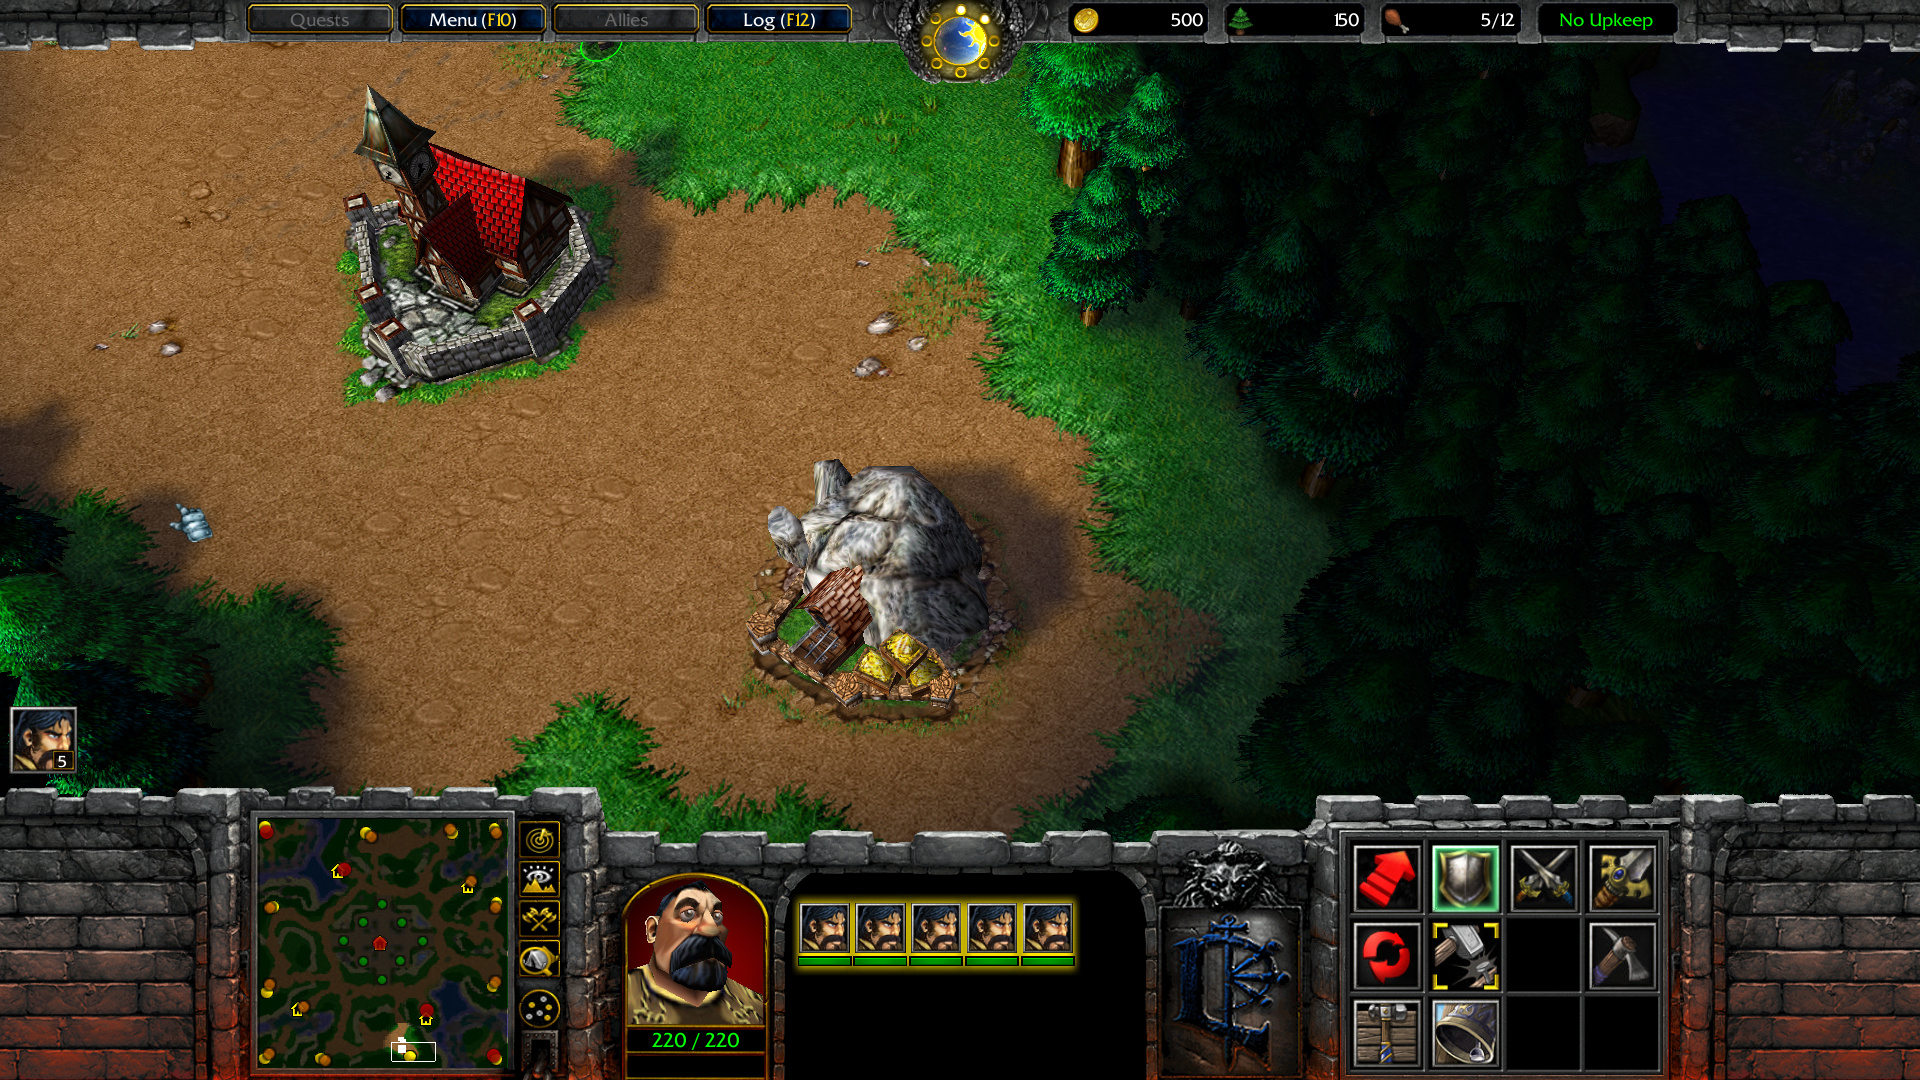Townhall: (327, 85, 620, 422)
